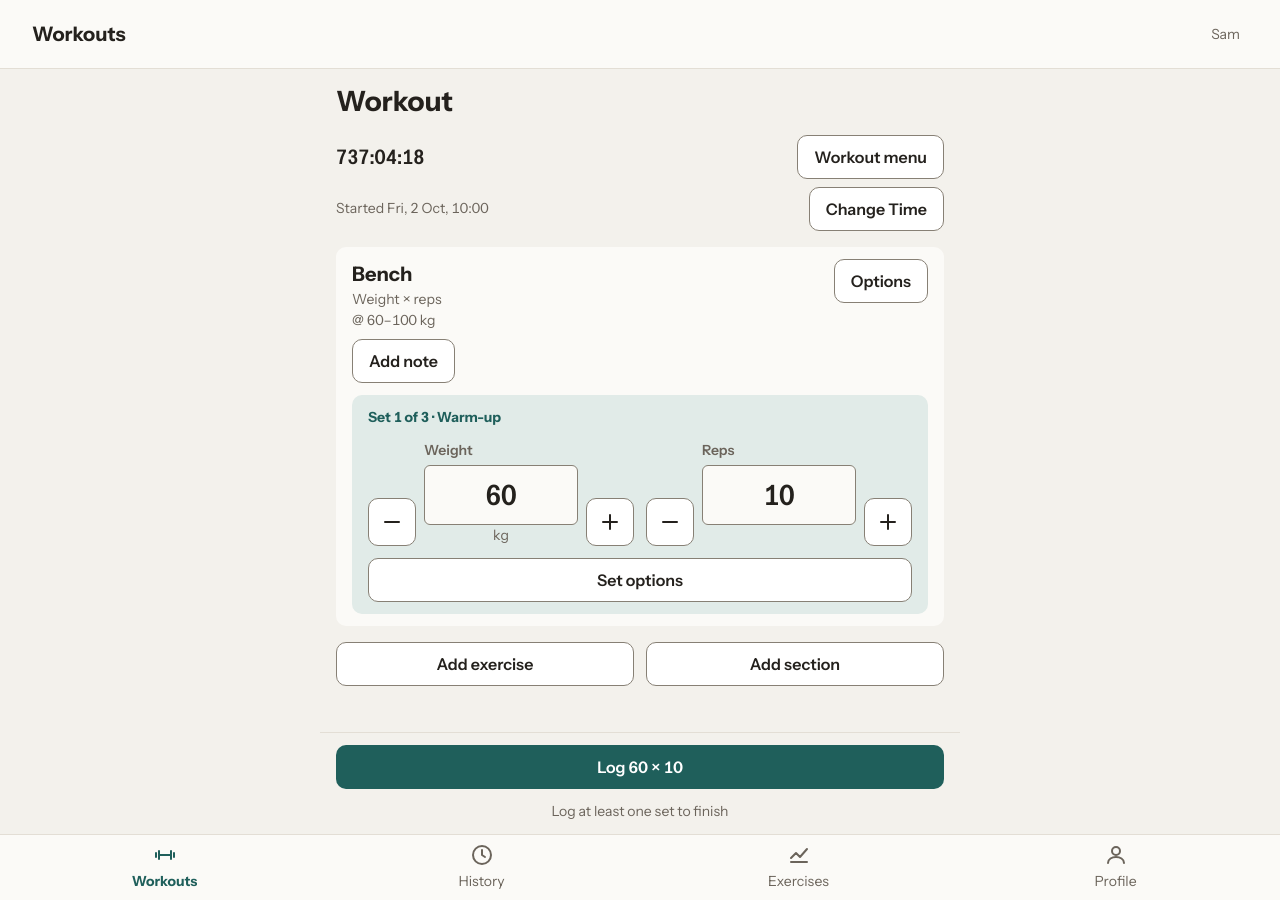
Test: 10.2 AC20 — a queued set counts at once (06.2) › offline, the label and the prefill advance as soon as the set is queued
Expected: the heading "Workout" is shown, [336,84,453,118]
Click the button "Log 60 × 10" at (640, 767), box [336,745,944,789]
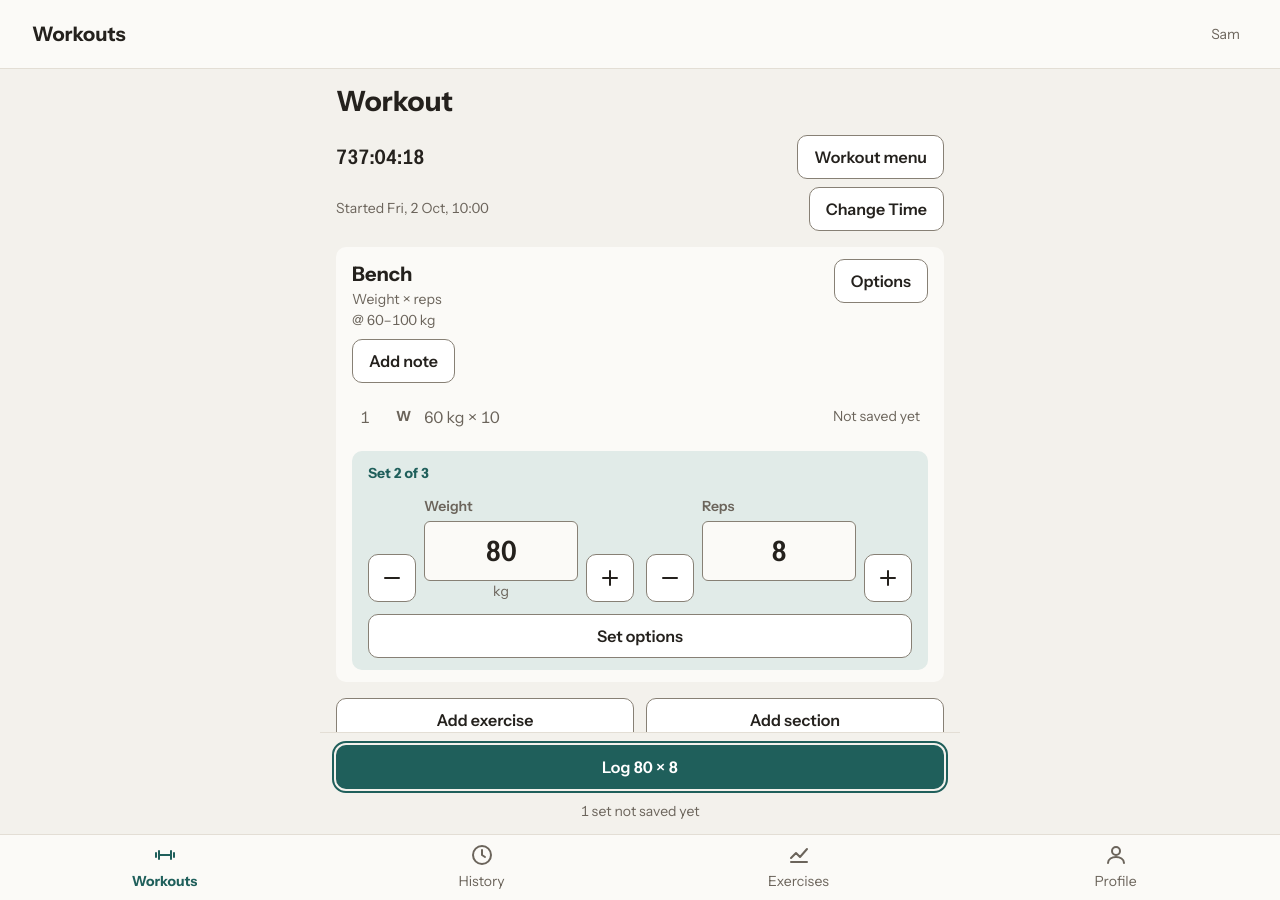
Now the text "Set 2 of 3" is shown, box [368,463,429,484]
Now the text "Not saved yet" is shown, box [833,406,920,427]
Now the field labelled "Weight" holds "80", box [424,521,578,581]
